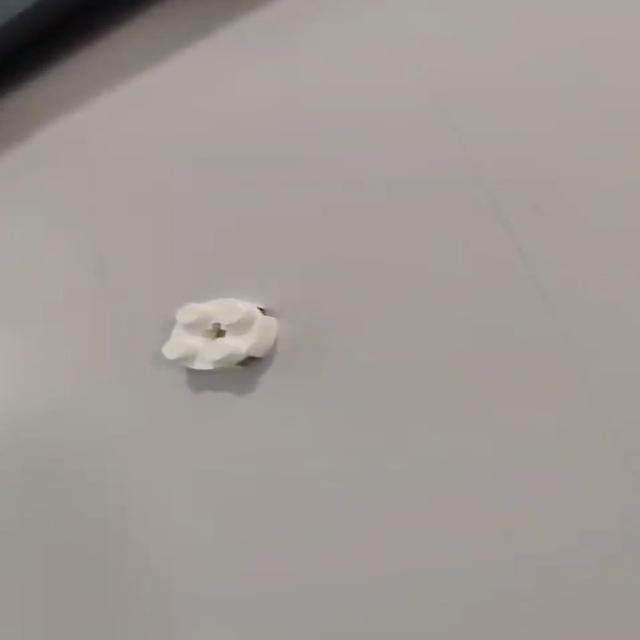S2x2x0: (158, 296, 278, 371)
